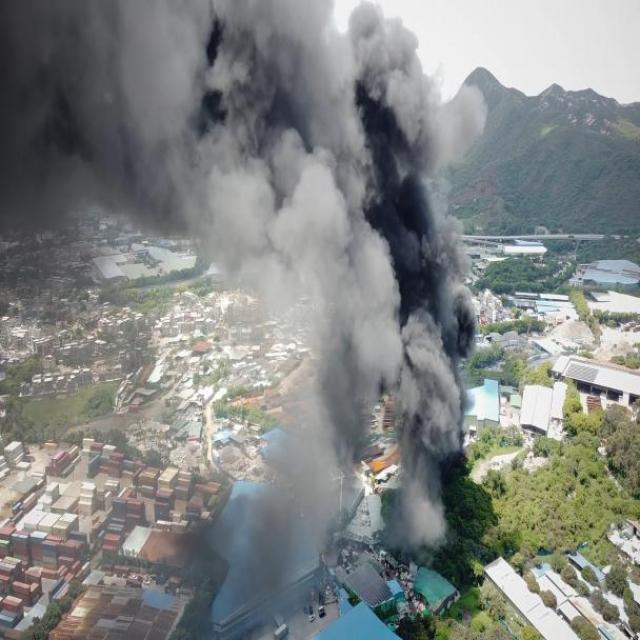Smoke: (0, 0, 446, 254), (262, 264, 455, 562)
